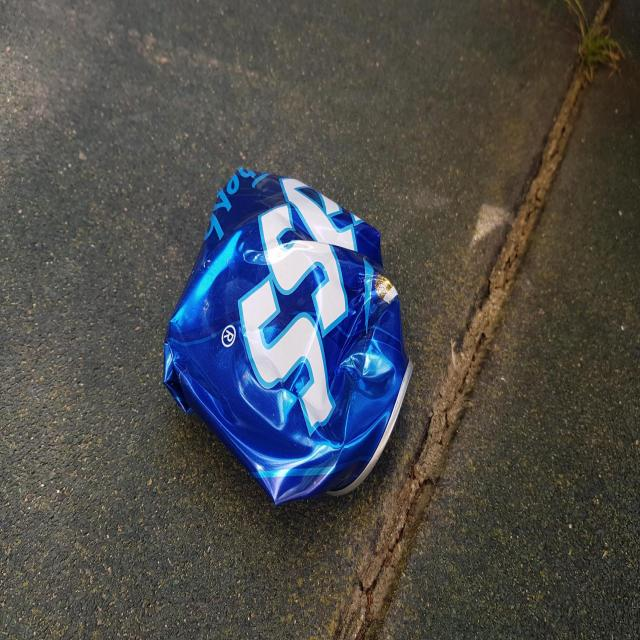can: (163, 167, 413, 504)
